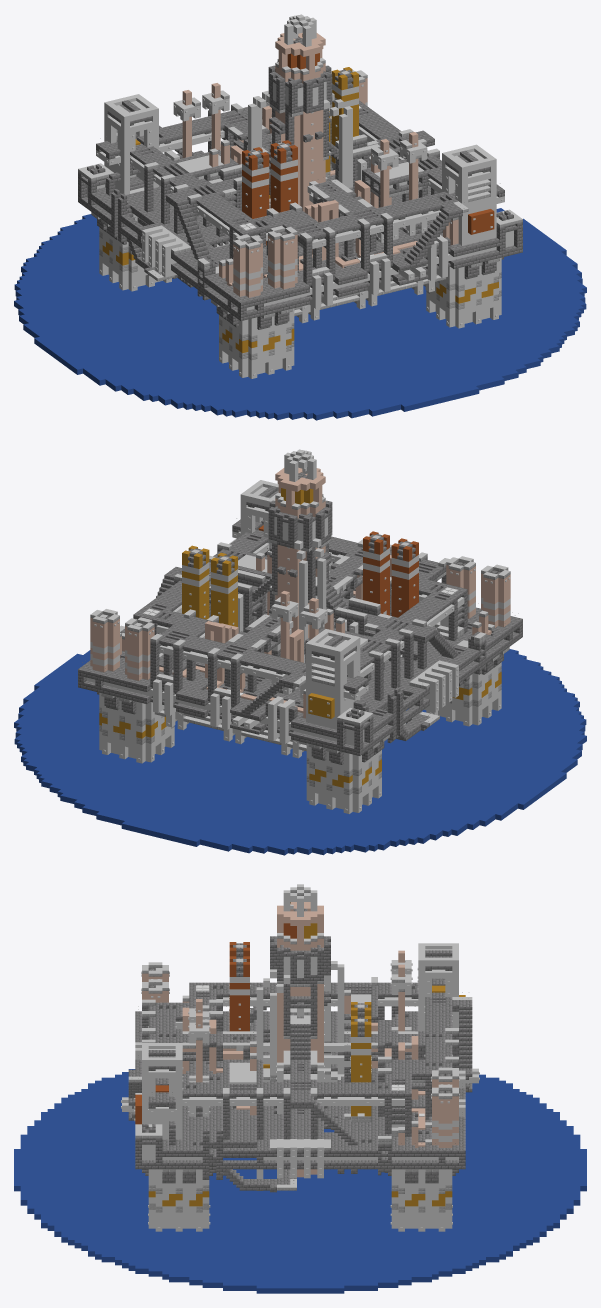
The model's file is minecraft.obj.
3 views of the same model, one above another, from view 1: azimuth 30°, elevation 25°; view 2: azimuth 150°, elevation 25°; view 3: azimuth 270°, elevation 25° (orthographic).
Bounding box in the file's own units: 85 × 47 × 85.
